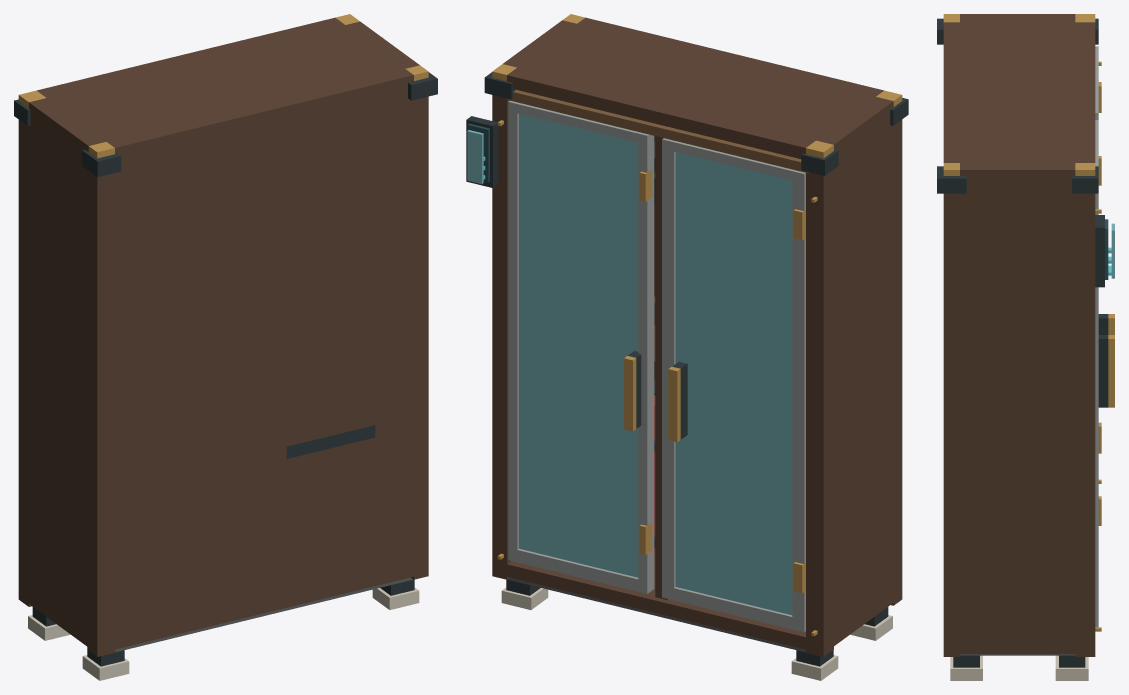
Rendered from LIFE-159.glb.
The picture shows the model from 3 angles, left to right: view 1: azimuth 30°, elevation 25°; view 2: azimuth 150°, elevation 25°; view 3: azimuth 270°, elevation 25°; orthographic projection. The views are drawn at different scales.
Parts seen in each view (by area): view 1: 消防工具柜; view 2: 消防工具柜; view 3: 消防工具柜.
Boxes of the visible parts, <box> form: 消防工具柜: <box>14,14,437,680</box>; 消防工具柜: <box>466,14,908,680</box>; 消防工具柜: <box>937,14,1114,680</box>.
Bounding box in the file's own units: 1.2 × 1.72 × 0.54.
Materials: 19 (19 with a texture image).
